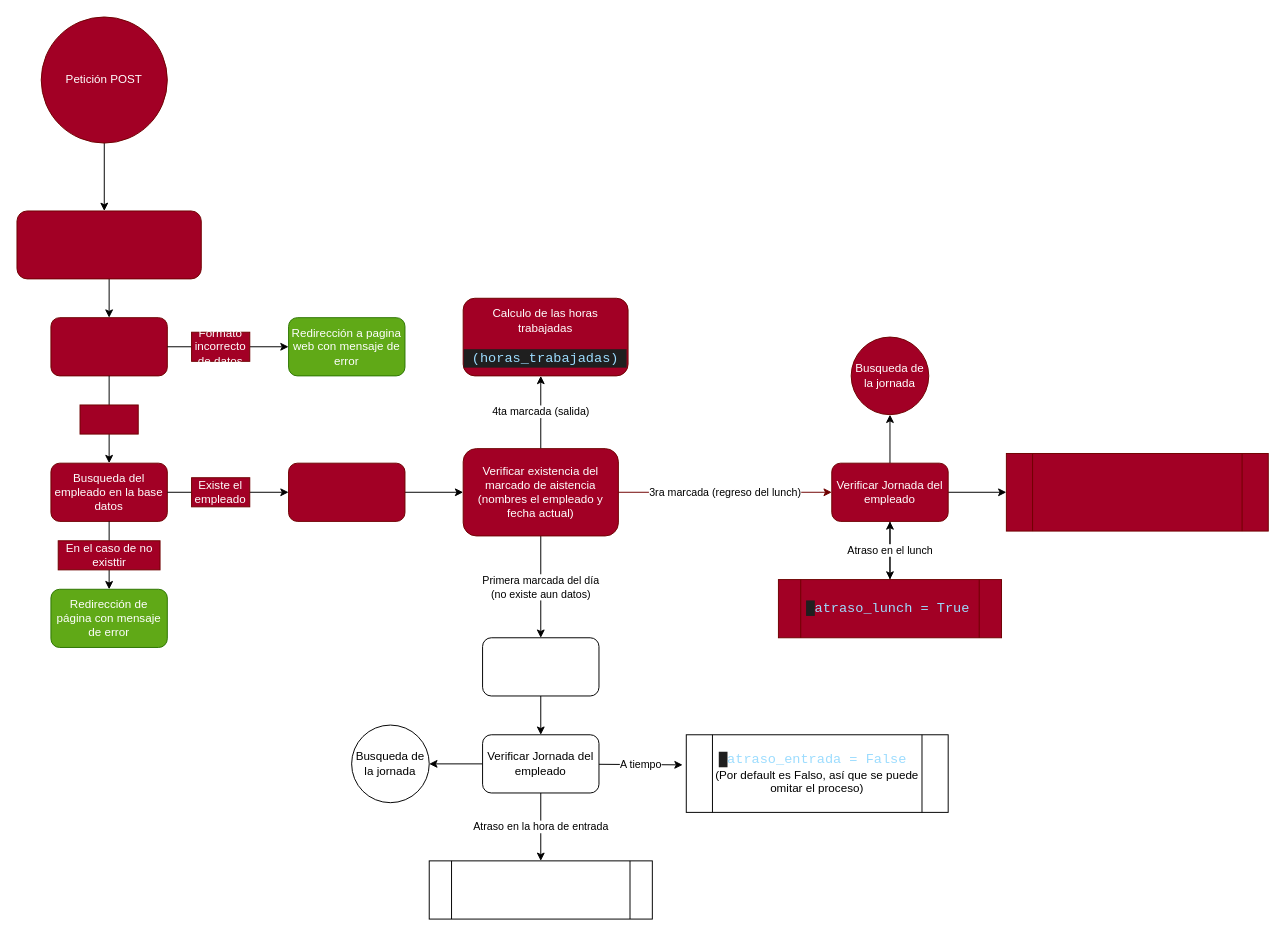
The diagram is 1285 pixels wide and 936 high, and some of its shapes have lost their labels. The shapes that lost their labels are listed below. From the top down, each one's centre as x and y in pixels, then its label:
[108,244]: Envio de JSON mediante petición AJAX (Fetch)
[108,346]: Desempaquetamiento de datos
[108,419]: Formato correcto de datos
[346,491]: Instanciar los datos del empleado
[1136,492]: atraso_lunch = False (Por default es Falso, así que se puede omitar el proceso)
[540,666]: Crear la primera marcada del día del empleado
[540,889]: atraso_entrada = True
